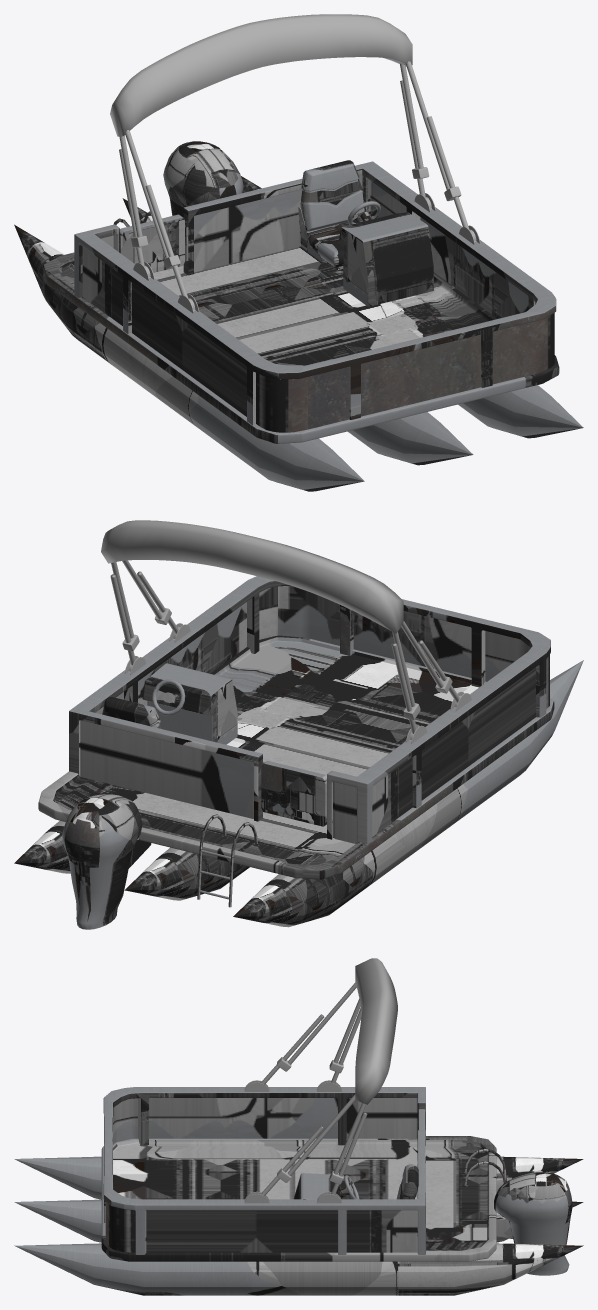
The model's file is Boat.fbx.
3 renders of one model, top to bottom at view 1: azimuth 30°, elevation 25°; view 2: azimuth 150°, elevation 25°; view 3: azimuth 270°, elevation 25°, orthographic. The views are drawn at different scales.
Visible parts, largest first — view 1: polySurface11, Floor, polySurface23, Cover, polySurface34, Wheel_Console, Engine, polySurface35, polySurface6, polySurface37, Door, polySurface36 (+6 smaller); view 2: Floor, polySurface11, polySurface23, Cover, polySurface34, Engine, Wheel_Console, polySurface35, Door, polySurface6, polySurface37; view 3: Floor, polySurface11, polySurface6, polySurface23, Engine, Cover, polySurface34, polySurface35, Wheel_Console, polySurface37, pCylinder2, pCylinder8.
Part boxes in pixels (left/top/right/bottom): polySurface11: left=82, top=175, right=554, bottom=432; Floor: left=43, top=246, right=559, bottom=443; polySurface23: left=74, top=161, right=556, bottom=425; Cover: left=110, top=14, right=412, bottom=136; polySurface34: left=14, top=224, right=364, bottom=491; Wheel_Console: left=338, top=211, right=433, bottom=306; Engine: left=163, top=141, right=243, bottom=217; polySurface35: left=122, top=198, right=473, bottom=465; polySurface6: left=241, top=176, right=583, bottom=438; polySurface37: left=300, top=160, right=365, bottom=231; Door: left=119, top=214, right=185, bottom=272; polySurface36: left=306, top=219, right=362, bottom=267; Floor: left=38, top=635, right=554, bottom=879; polySurface11: left=80, top=586, right=549, bottom=843; polySurface23: left=69, top=576, right=550, bottom=844; Cover: left=101, top=520, right=403, bottom=633; polySurface34: left=233, top=660, right=583, bottom=927; Engine: left=62, top=794, right=151, bottom=929; Wheel_Console: left=142, top=663, right=237, bottom=744; polySurface35: left=125, top=847, right=249, bottom=900; Door: left=261, top=761, right=326, bottom=826; polySurface6: left=14, top=820, right=70, bottom=873; polySurface37: left=102, top=697, right=162, bottom=729; Floor: left=101, top=1136, right=496, bottom=1261; polySurface11: left=105, top=1098, right=417, bottom=1252; polySurface6: left=14, top=1243, right=583, bottom=1295; polySurface23: left=103, top=1087, right=425, bottom=1254; Engine: left=494, top=1172, right=572, bottom=1275; Cover: left=355, top=958, right=397, bottom=1104; polySurface34: left=14, top=1156, right=583, bottom=1199; polySurface35: left=14, top=1199, right=583, bottom=1242; Wheel_Console: left=293, top=1173, right=340, bottom=1199; polySurface37: left=396, top=1164, right=418, bottom=1199; pCylinder2: left=288, top=983, right=356, bottom=1064; pCylinder8: left=288, top=1094, right=355, bottom=1175.
Size of the model in its own units: 6.86 by 7.03 by 13.89.
Materials: 2 (1 with a texture image).
